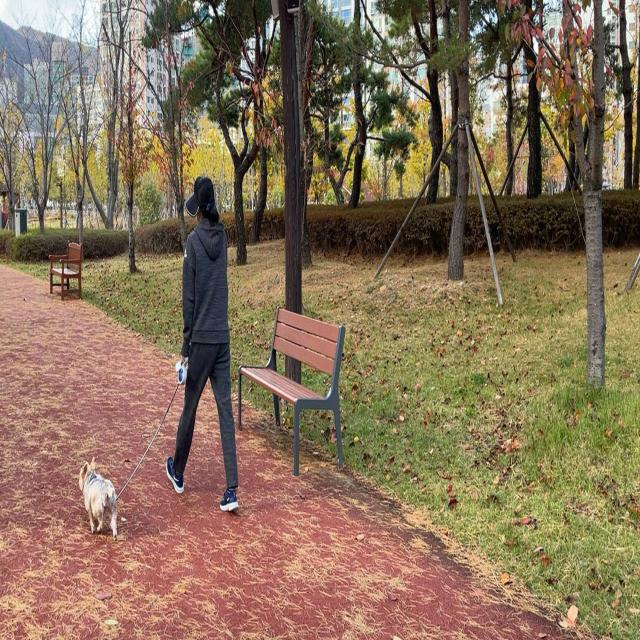Leashed_Dog: (78, 354, 199, 544)
